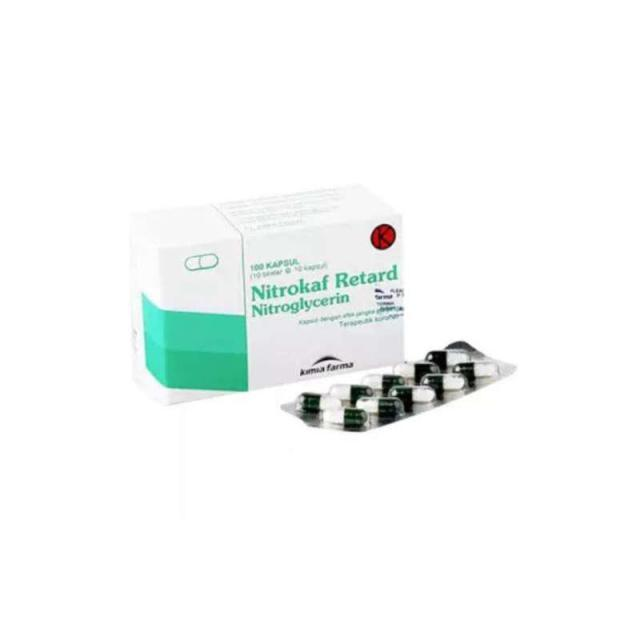drug-name: (249, 265, 398, 303)
